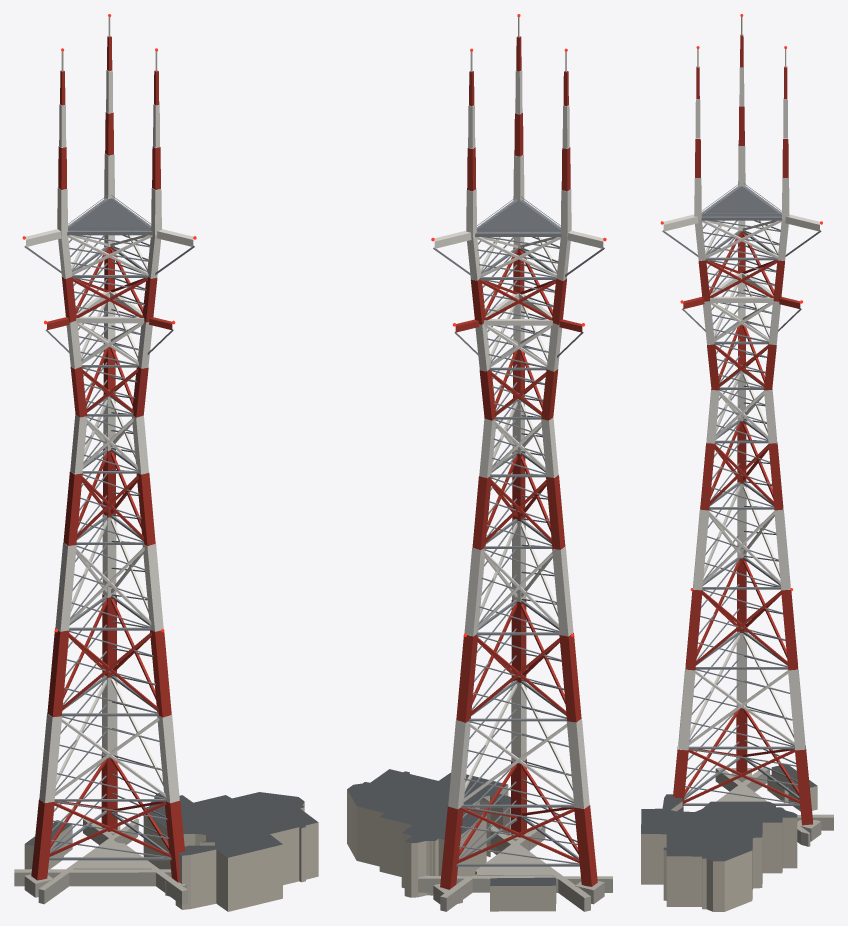
File: sutro-tower.glb
3 views of the same model, side by side, from view 1: azimuth 30°, elevation 25°; view 2: azimuth 150°, elevation 25°; view 3: azimuth 270°, elevation 25° (orthographic). The views are drawn at different scales.
Visible parts, largest first — view 1: tower, base; view 2: tower, base; view 3: tower, base.
Part boxes in pixels (x1=…): tower: x1=24, y1=17, x2=194, y2=882; base: x1=14, y1=792, x2=318, y2=911; tower: x1=433, y1=17, x2=604, y2=889; base: x1=347, y1=769, x2=612, y2=911; tower: x1=662, y1=17, x2=821, y2=825; base: x1=641, y1=764, x2=833, y2=911.
Size of the model in its own units: 100 by 305 by 67.08.
